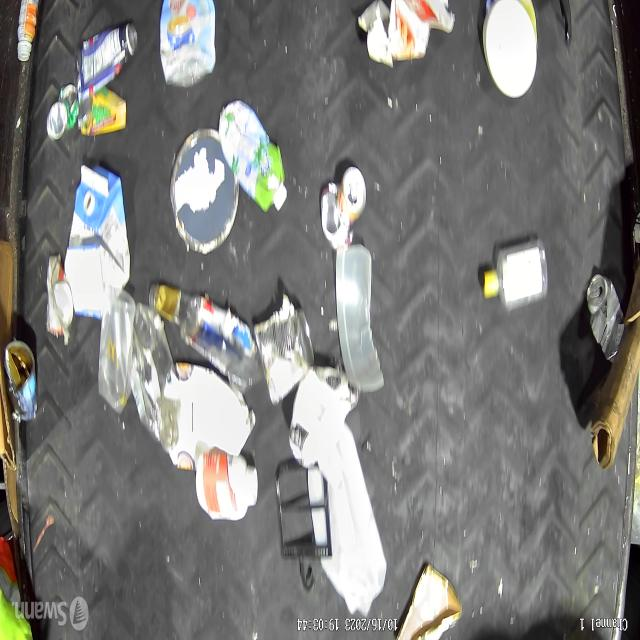can: (288, 364, 358, 468), (255, 303, 314, 405), (319, 164, 367, 249), (585, 272, 625, 364), (45, 257, 73, 341), (46, 100, 68, 142), (58, 85, 77, 131)
milk_jug: (306, 421, 388, 620), (64, 163, 130, 319), (162, 362, 255, 469)
non_white_jug: (218, 100, 288, 214)
plastic_bottle: (146, 283, 264, 392), (481, 234, 548, 315)
